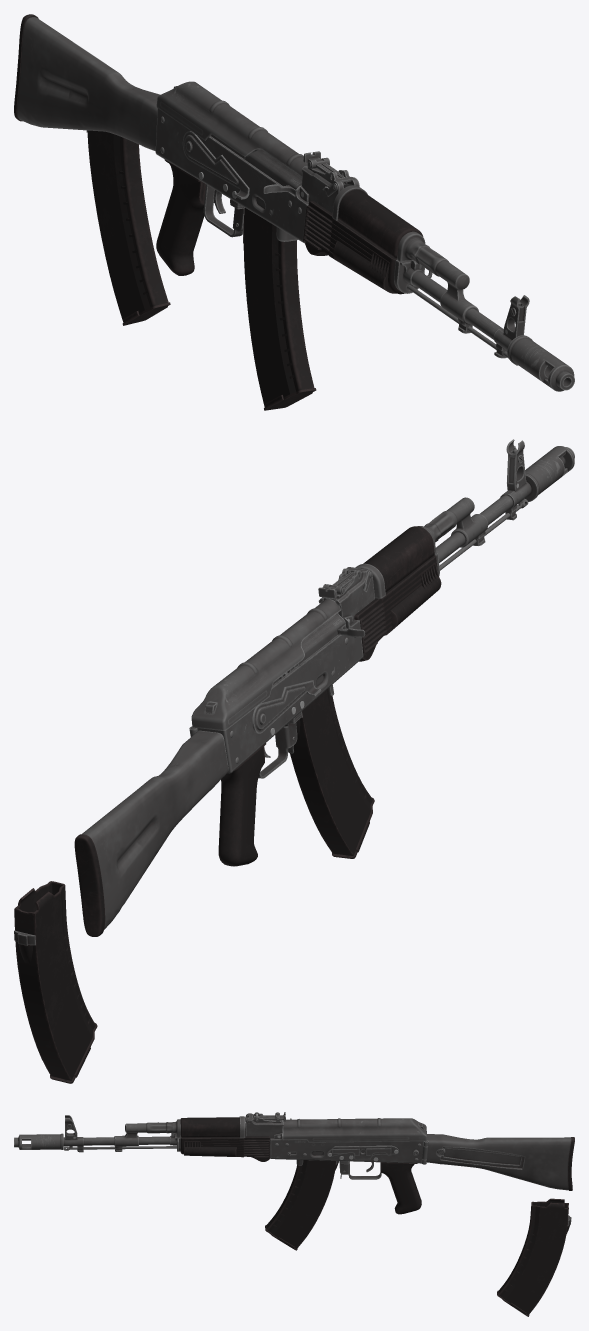
The model's file is AK47_gun.fbx.
The picture shows the model from 3 angles, top to bottom: view 1: azimuth 30°, elevation 25°; view 2: azimuth 150°, elevation 25°; view 3: azimuth 270°, elevation 25°; orthographic projection. The views are drawn at different scales.
Parts seen in each view (by area): view 1: Ak.001, Mag_2.001; view 2: Ak.001, Mag_2.001; view 3: Ak.001, Mag_2.001.
Part boxes in pixels (x1,y1,x2,y2): Ak.001: (14, 14, 574, 410); Mag_2.001: (86, 130, 170, 325); Ak.001: (74, 439, 574, 936); Mag_2.001: (14, 881, 97, 1083); Ak.001: (14, 1112, 574, 1250); Mag_2.001: (497, 1198, 571, 1316).
Size of the model in its own units: 993 by 3228 by 8707.
